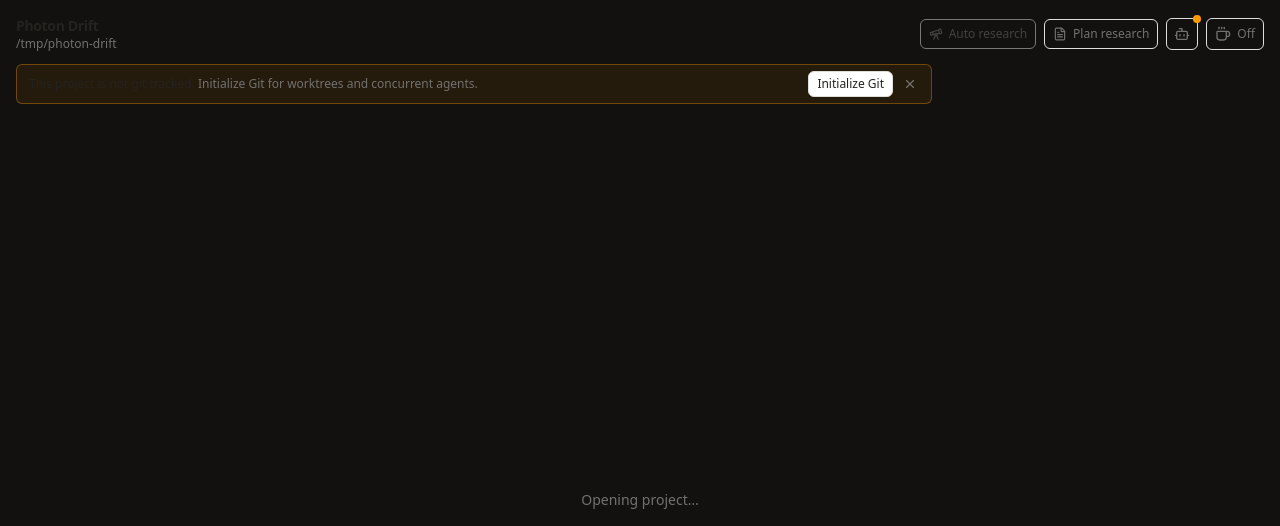
Project header › allows the concise non-Git notice to be dismissed
expect the element with test id "non-git-project-notice" is shown: met, box [16,64,932,104]
Click the button named "Dismiss Git notice": point(910, 84) [901,75,919,93]
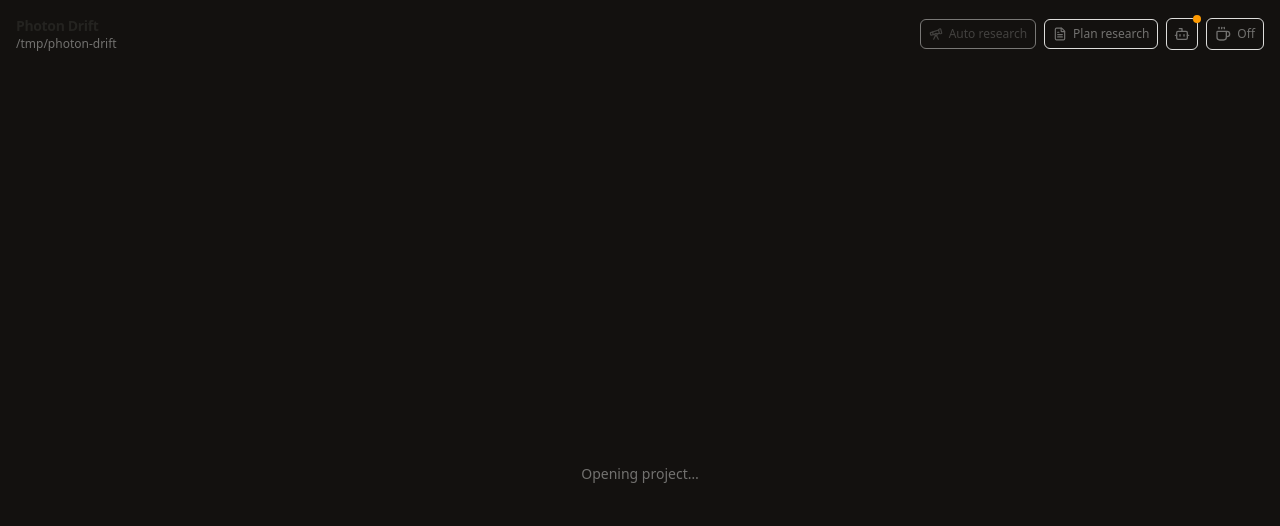
expect the element with test id "non-git-project-notice" is gone: met
